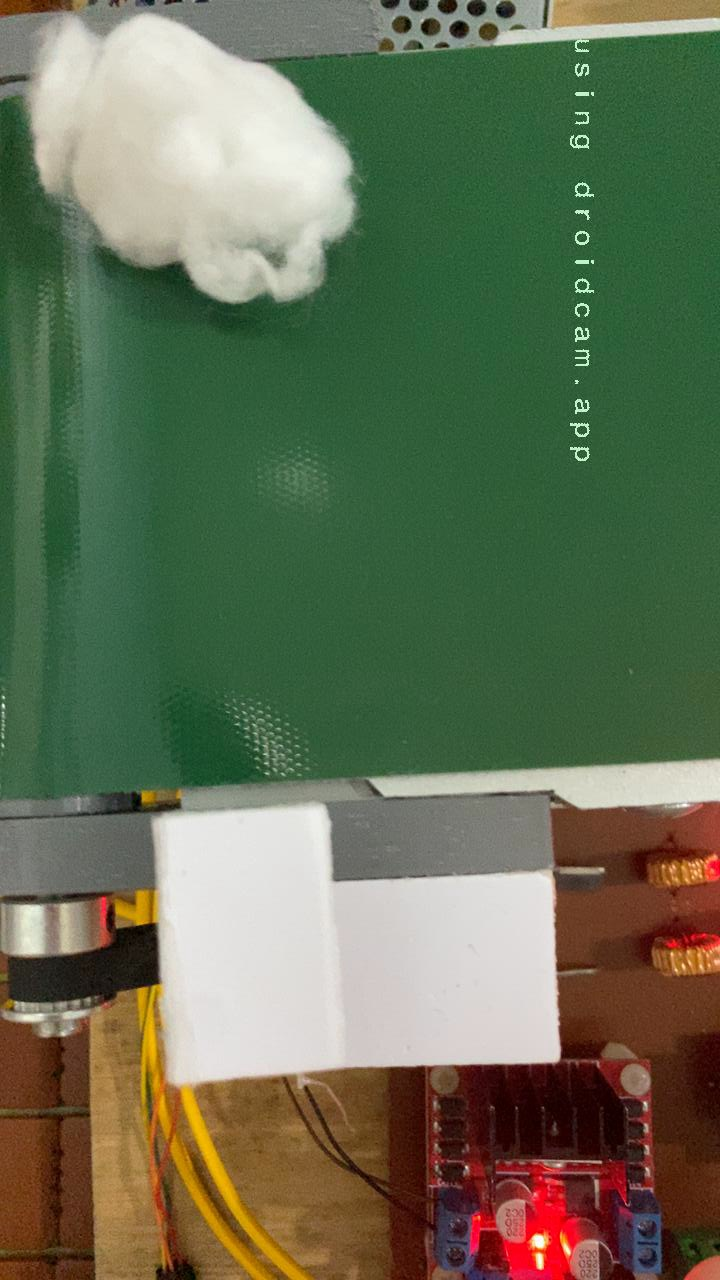cotton: (0, 46, 420, 309)
